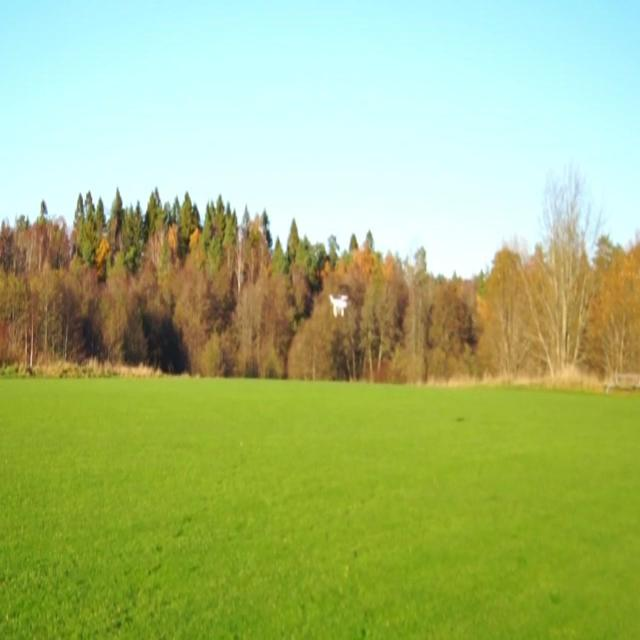drone: (328, 291, 350, 319)
